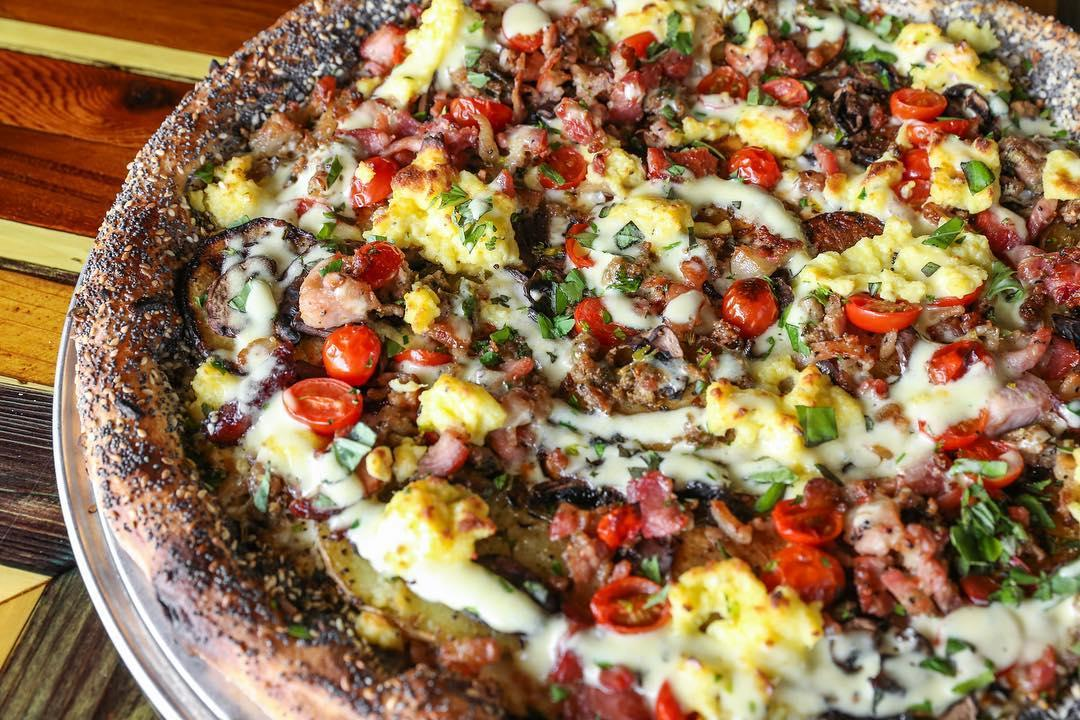Pizza: (100, 0, 1080, 720)
Tomatoes: (776, 499, 841, 598), (941, 412, 1021, 481), (322, 323, 388, 392), (891, 86, 972, 139), (283, 378, 363, 428), (573, 291, 643, 345), (596, 577, 671, 627), (724, 277, 781, 334), (844, 288, 917, 329), (360, 20, 413, 72), (503, 0, 553, 54), (447, 92, 518, 130), (645, 146, 719, 182), (343, 238, 401, 283), (729, 146, 785, 191), (537, 142, 587, 189), (935, 336, 987, 380), (352, 159, 397, 208), (897, 148, 933, 206), (598, 505, 643, 550), (564, 219, 597, 272), (609, 29, 662, 60), (700, 65, 746, 100), (932, 282, 987, 310), (763, 73, 807, 105), (653, 675, 683, 720), (389, 351, 455, 366)
